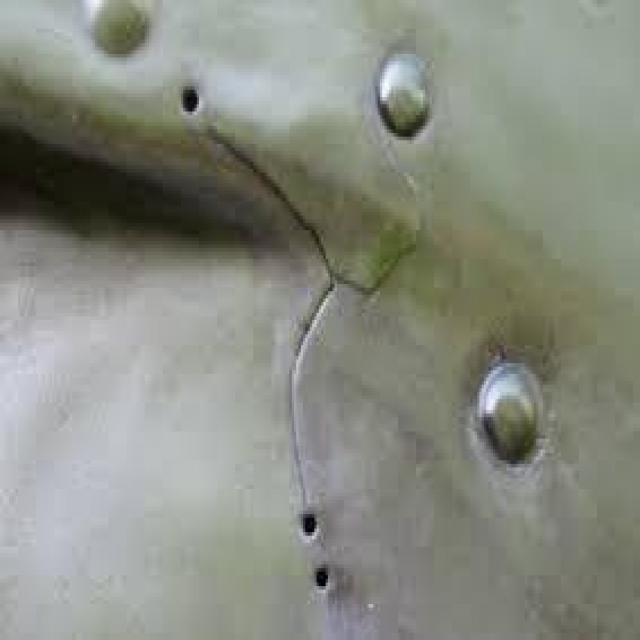Crack: (202, 120, 425, 513)
